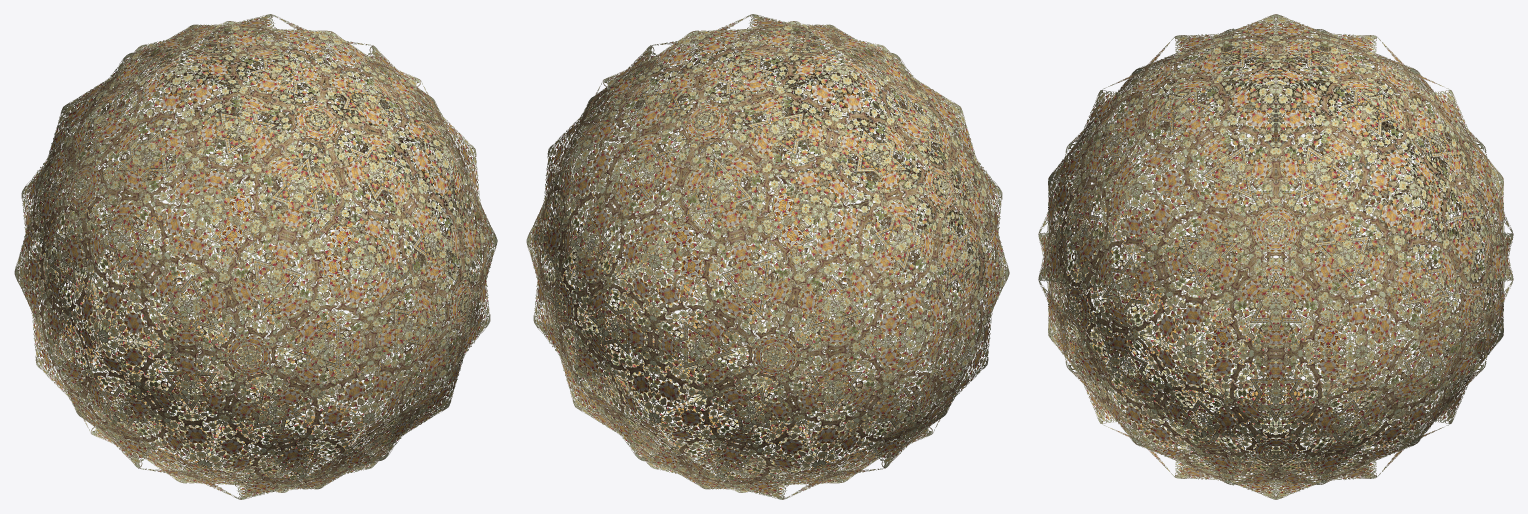
The model's file is SmallHexagonalHexecontahedron9.gltf.
3 views of the same model, side by side, from view 1: azimuth 30°, elevation 25°; view 2: azimuth 150°, elevation 25°; view 3: azimuth 270°, elevation 25° (orthographic).
Visible parts, largest first — view 1: SmallHexagonalHexecontahedron; view 2: SmallHexagonalHexecontahedron; view 3: SmallHexagonalHexecontahedron.
Boxes of the visible parts, box(x1,y1,x2,y2) form: SmallHexagonalHexecontahedron: box(14, 14, 497, 499); SmallHexagonalHexecontahedron: box(526, 14, 1009, 499); SmallHexagonalHexecontahedron: box(1038, 14, 1513, 499).
Size of the model in its own units: 2.73 by 2.73 by 2.73.
Materials: 1 (1 with a texture image).
